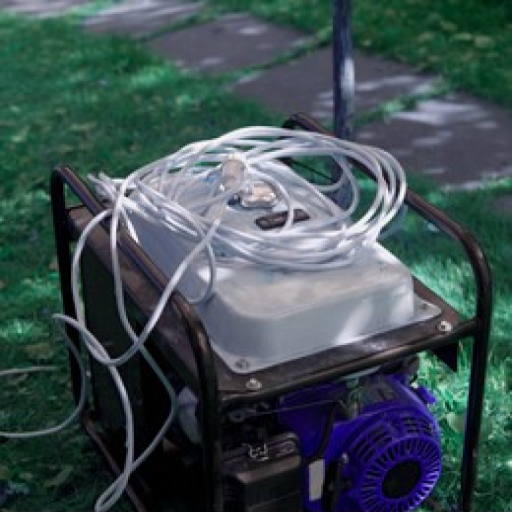portable_generator: (50, 113, 494, 512)
